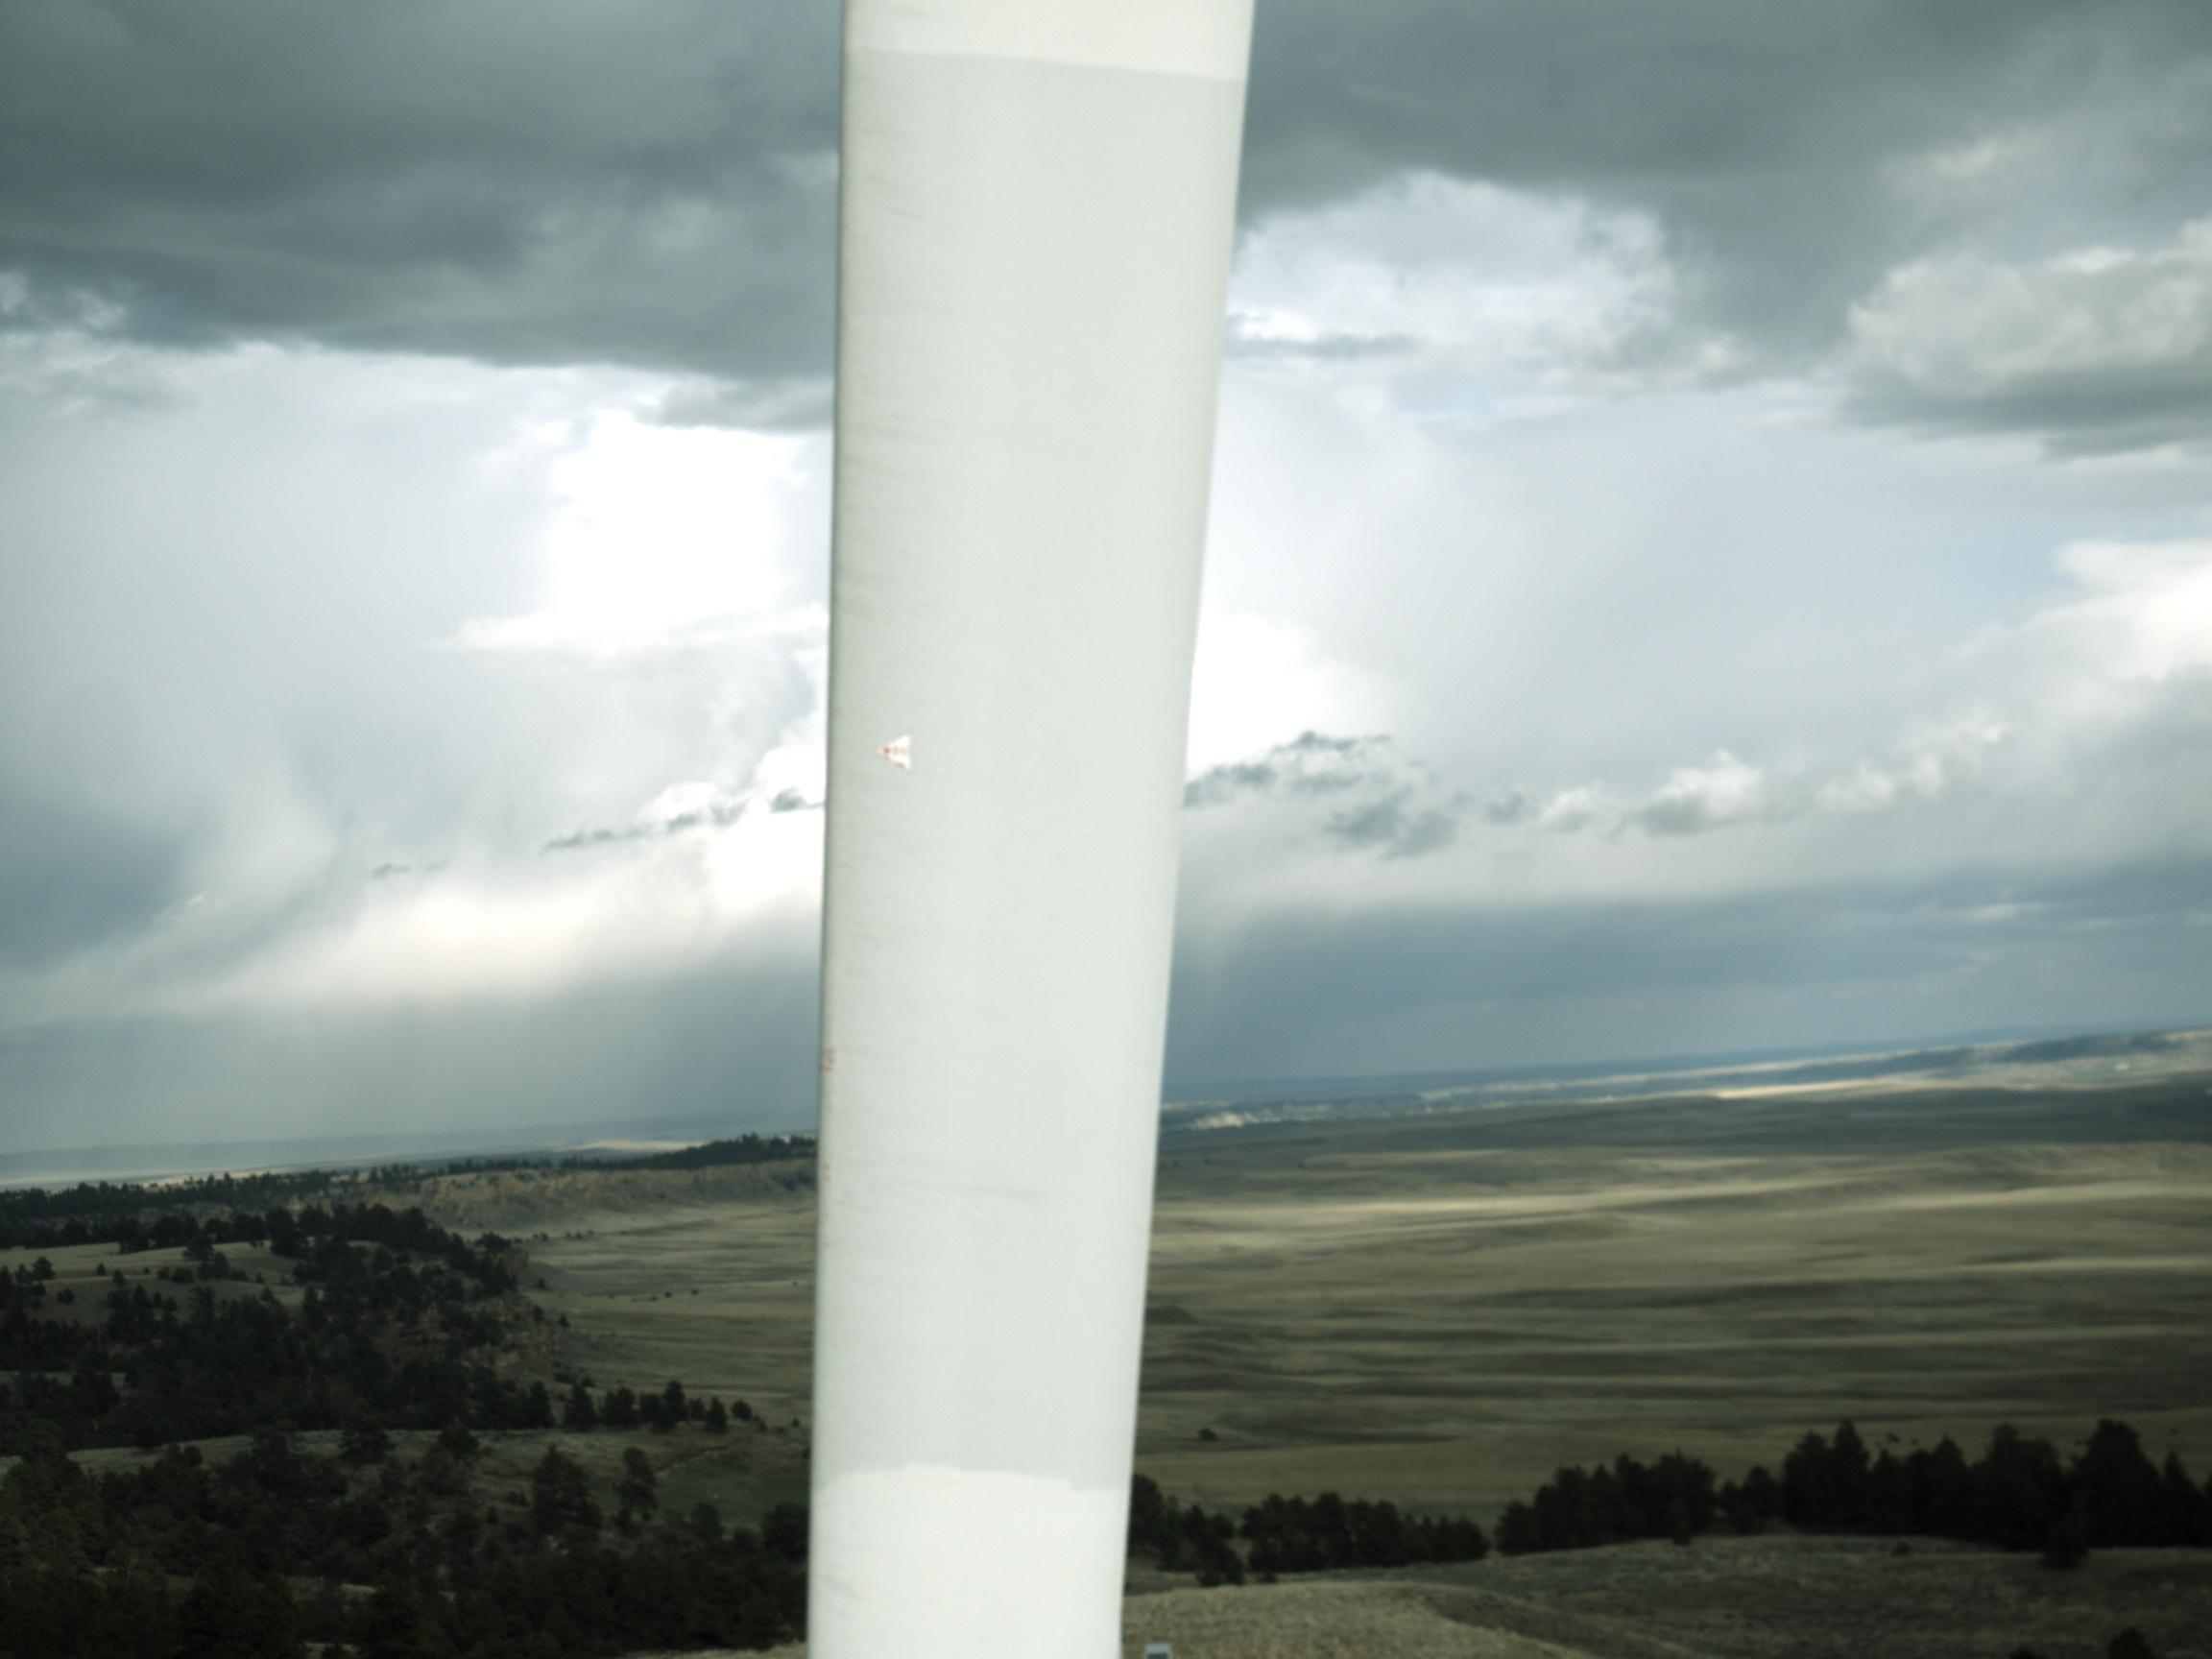chip: (820, 1044, 836, 1072), (820, 1164, 831, 1183), (822, 1237, 833, 1251)
